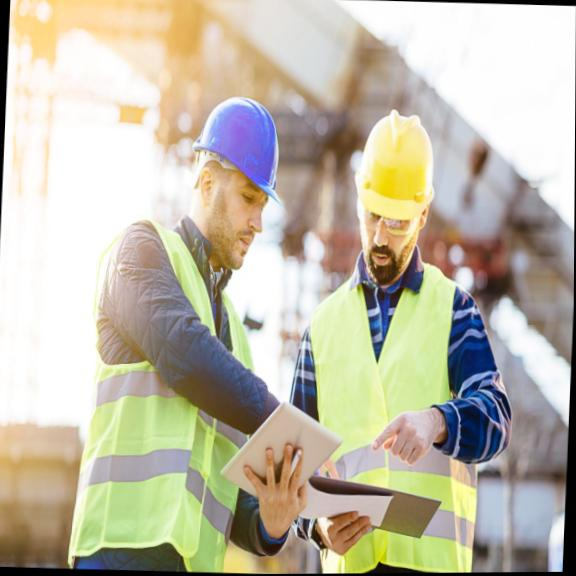safety_vest: (86, 215, 270, 575), (294, 261, 464, 574)
